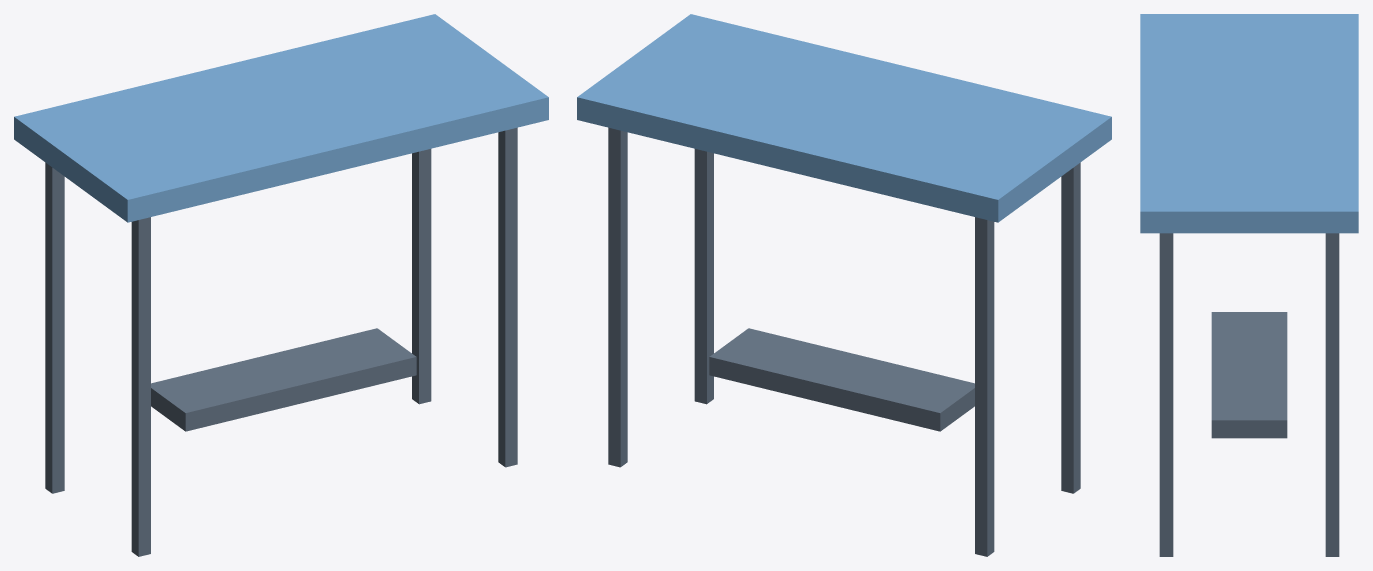
The model's file is prop_halte.fbx.
3 renders of one model, left to right at view 1: azimuth 30°, elevation 25°; view 2: azimuth 150°, elevation 25°; view 3: azimuth 270°, elevation 25°, orthographic. The views are drawn at different scales.
Parts seen in each view (by area): view 1: prop_halte; view 2: prop_halte; view 3: prop_halte.
Boxes of the visible parts, box(x1,y1,x2,y2) form: prop_halte: box(14, 14, 548, 556); prop_halte: box(577, 14, 1111, 556); prop_halte: box(1140, 14, 1358, 556).
Bounding box in the file's own units: 310 × 260 × 145.
1 material, 1 textured.
